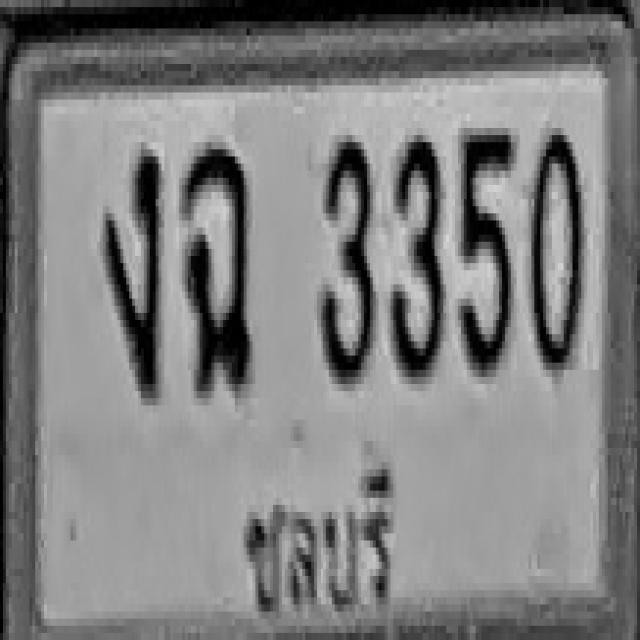0: (530, 124, 583, 373)
16NgorNgu: (103, 150, 161, 398)
18ChorChing: (182, 142, 252, 391)
3: (318, 135, 374, 384), (391, 128, 444, 377)
5: (458, 124, 514, 373)
Chonburi: (237, 455, 396, 628)
